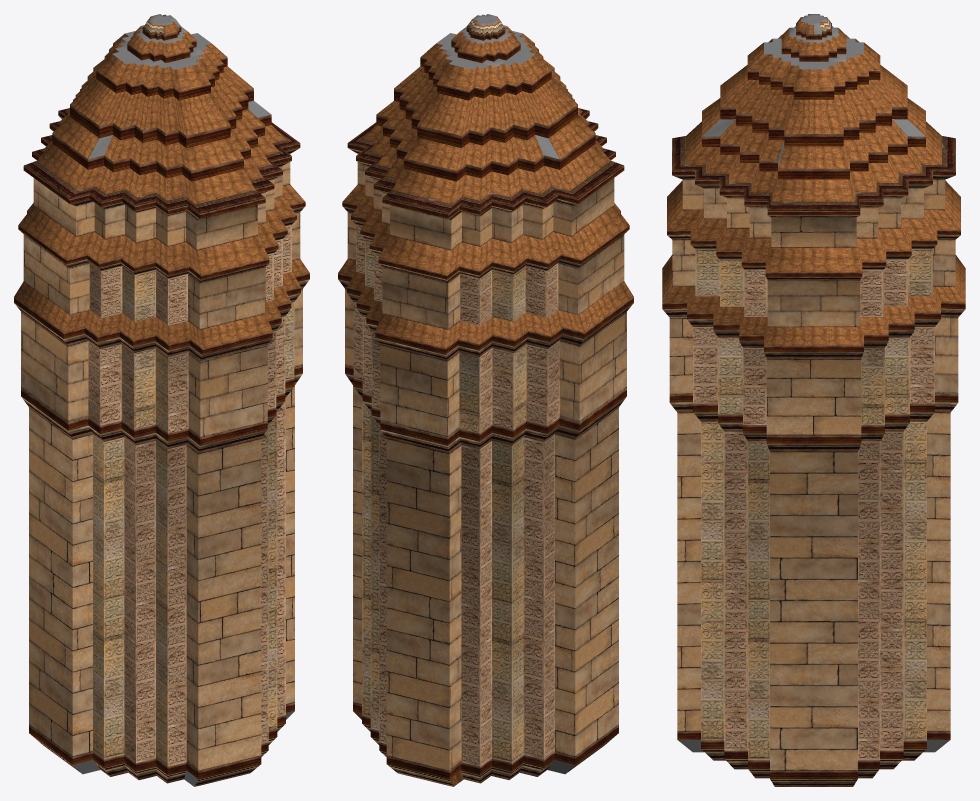
The model's file is Tower.fbx.
3 renders of one model, left to right at view 1: azimuth 30°, elevation 25°; view 2: azimuth 150°, elevation 25°; view 3: azimuth 270°, elevation 25°, orthographic.
Visible parts, largest first — view 1: Box075; view 2: Box075; view 3: Box075.
Boxes of the visible parts, box(x1,y1,x2,y2) form: Box075: box(14, 14, 309, 786); Box075: box(338, 14, 633, 786); Box075: box(662, 14, 965, 786).
Size of the model in its own units: 1216 by 3382 by 1293.
